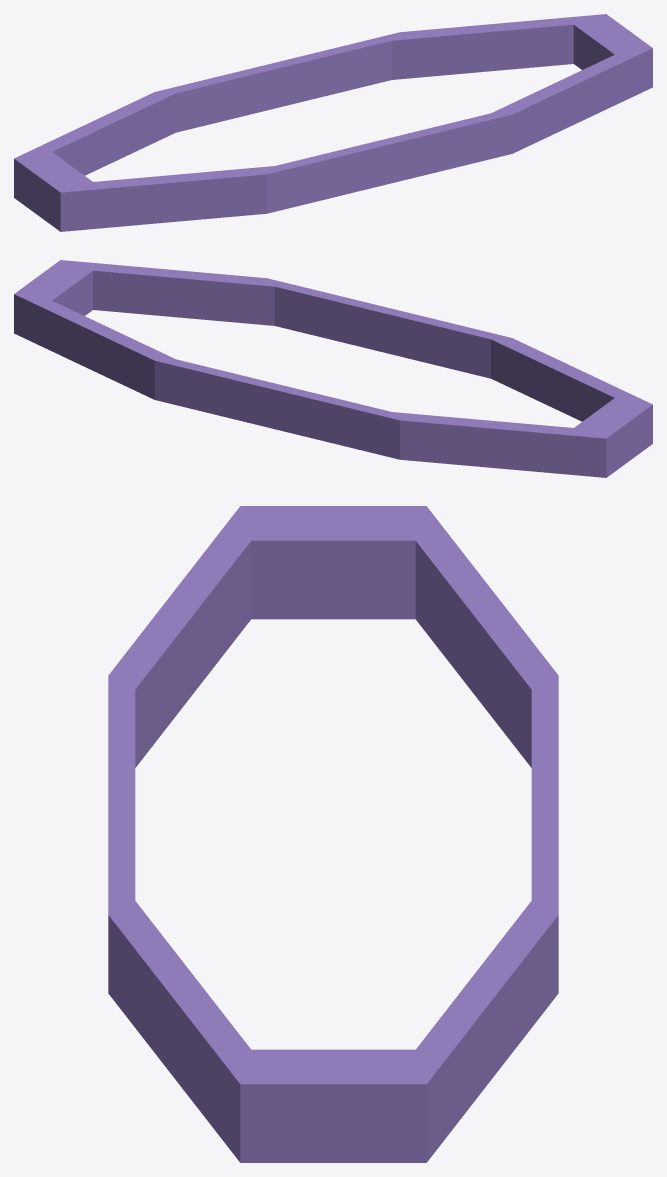
The model's file is guardian_title-barrier.dae.
3 views of the same model, one above another, from view 1: azimuth 30°, elevation 25°; view 2: azimuth 150°, elevation 25°; view 3: azimuth 270°, elevation 25° (orthographic). The views are drawn at different scales.
Parts seen in each view (by area): view 1: text-barrier; view 2: text-barrier; view 3: text-barrier.
Part boxes in pixels (bbox=[...]): text-barrier: bbox=[14, 14, 652, 231]; text-barrier: bbox=[14, 260, 652, 477]; text-barrier: bbox=[108, 506, 558, 1162].
Size of the model in its own units: 6.38 by 2.1 by 0.4043.
